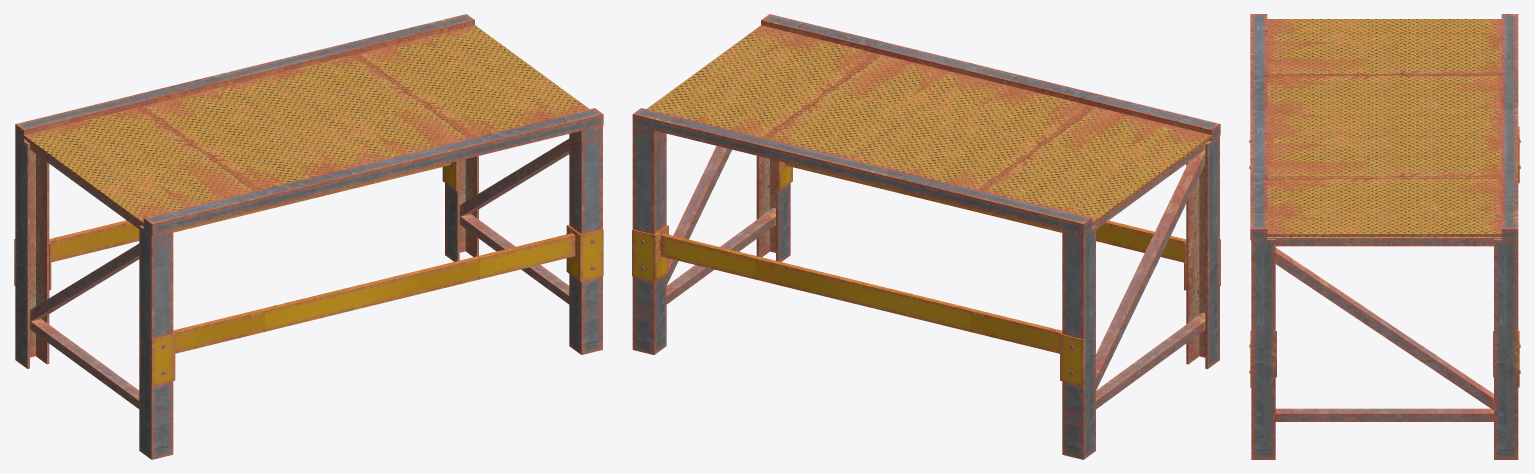
The model's file is wareRack.fbx.
3 renders of one model, left to right at view 1: azimuth 30°, elevation 25°; view 2: azimuth 150°, elevation 25°; view 3: azimuth 270°, elevation 25°, orthographic. The views are drawn at different scales.
Parts seen in each view (by area): view 1: PalletRacking_3.001; view 2: PalletRacking_3.001; view 3: PalletRacking_3.001.
Boxes of the visible parts, bbox=[...] form: PalletRacking_3.001: bbox=[14, 14, 603, 459]; PalletRacking_3.001: bbox=[632, 14, 1220, 459]; PalletRacking_3.001: bbox=[1249, 14, 1520, 459].
Size of the model in its own units: 420 by 210 by 223.
